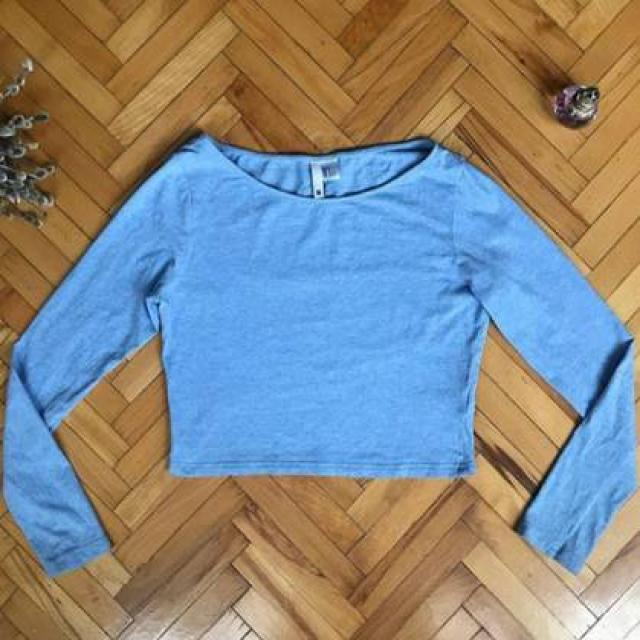Clothes -Biodegradable-: (2, 135, 640, 582)
